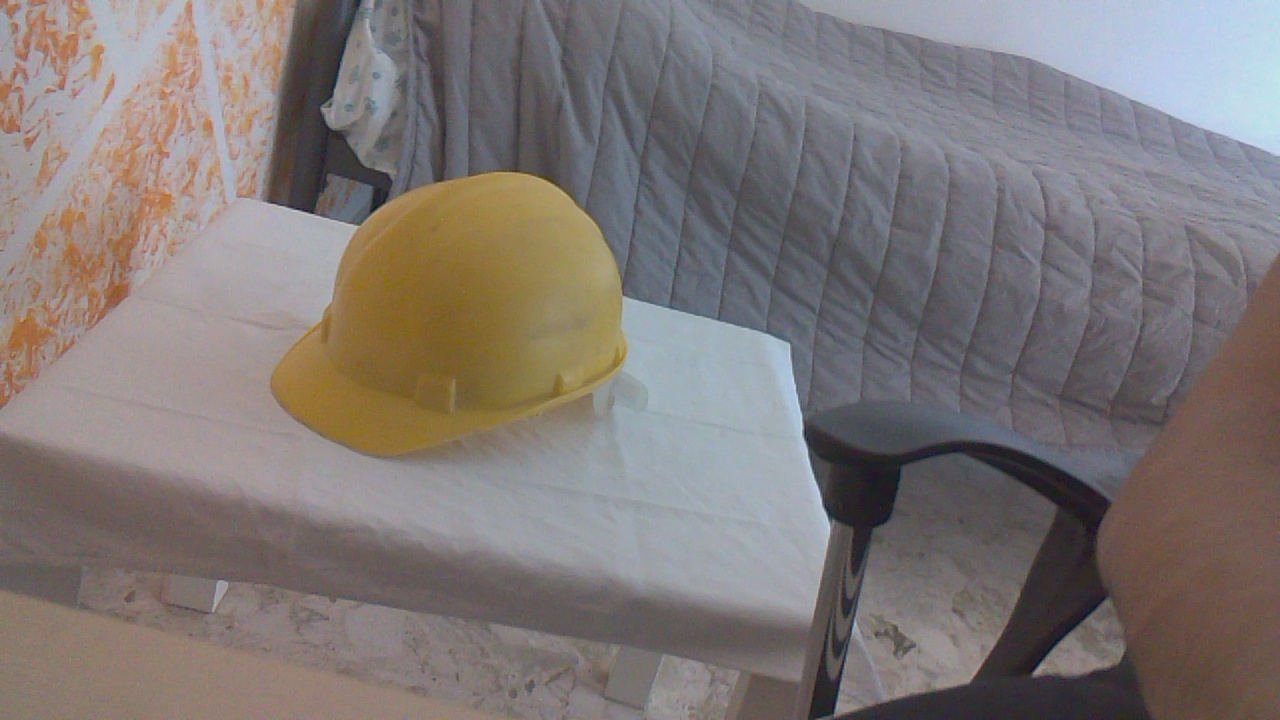Helmet: (264, 137, 636, 480)
